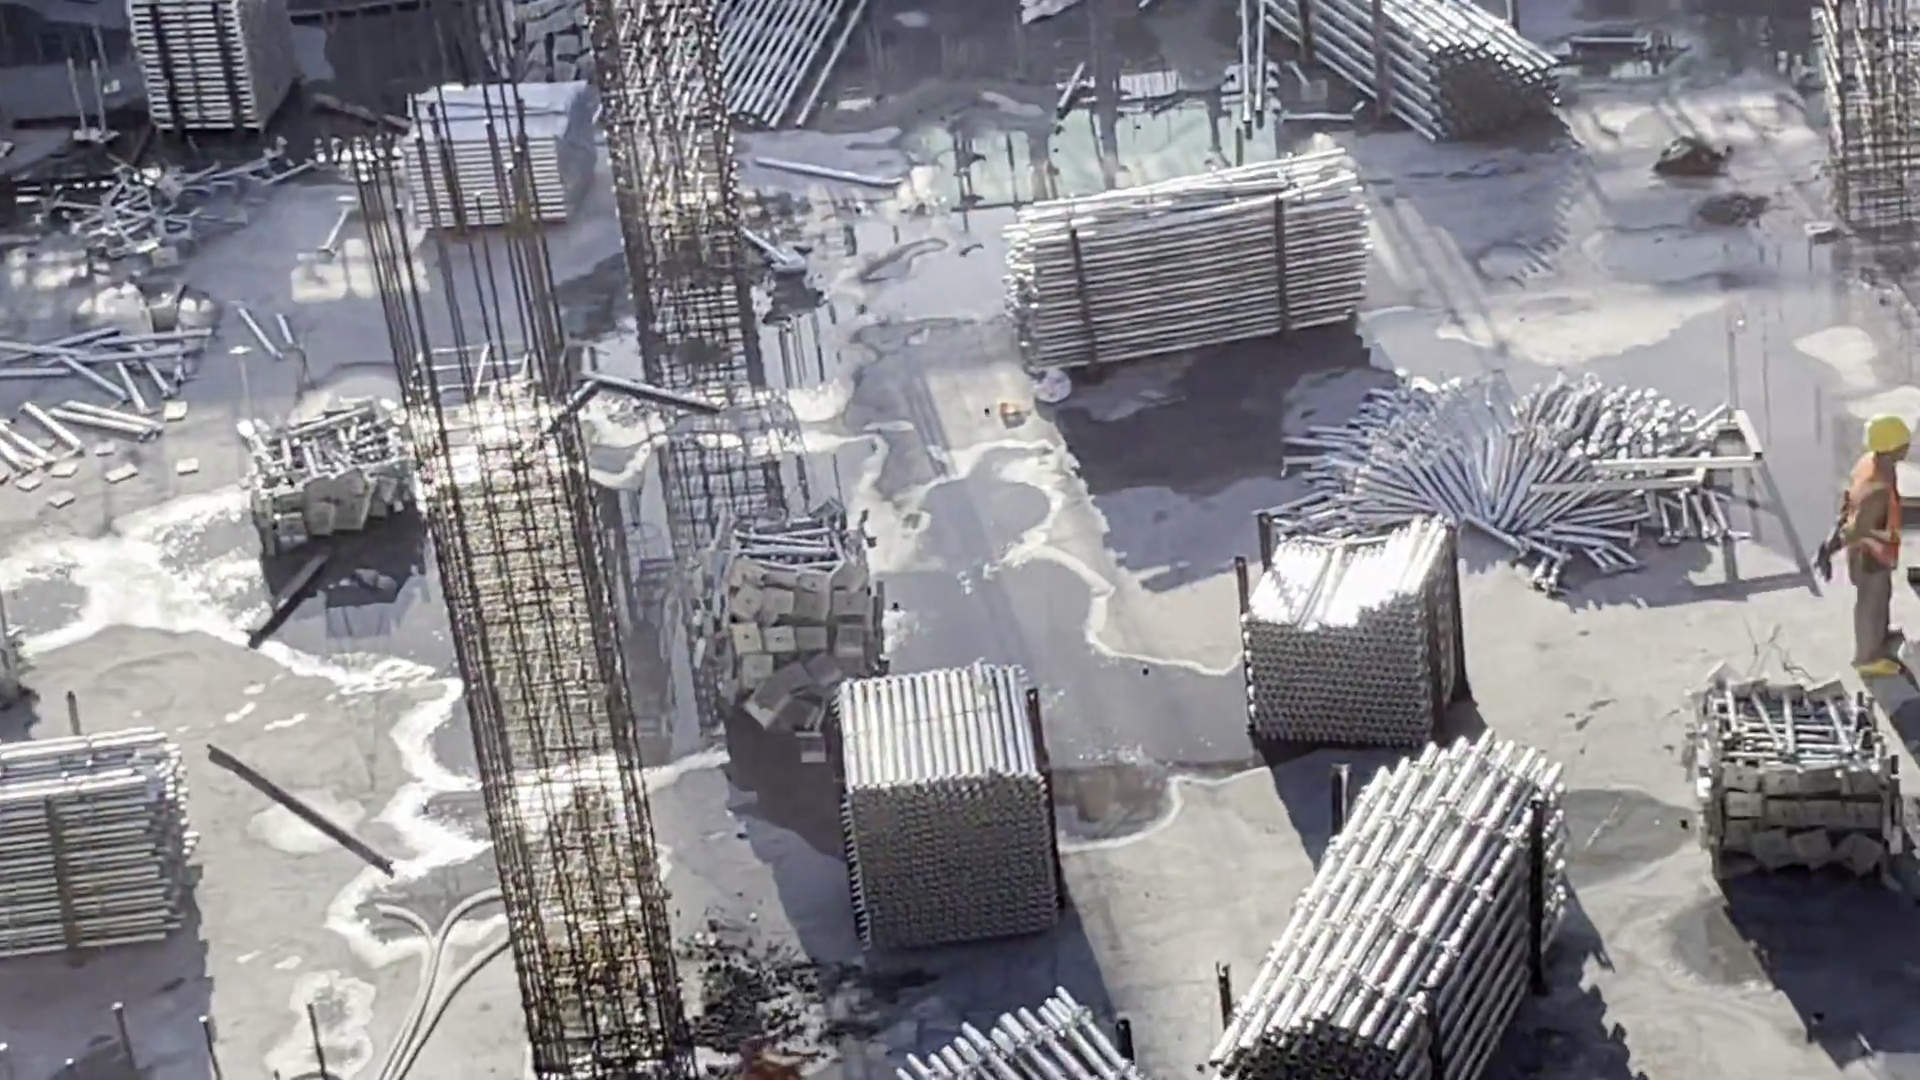helmet: (1857, 407, 1919, 455)
person: (1809, 416, 1910, 684)
scaffold: (1188, 725, 1575, 1080), (819, 648, 1073, 964), (1002, 146, 1374, 363), (1247, 506, 1466, 755), (6, 721, 212, 963), (1244, 1, 1578, 149), (392, 68, 601, 229), (881, 971, 1160, 1080), (682, 3, 859, 128)
